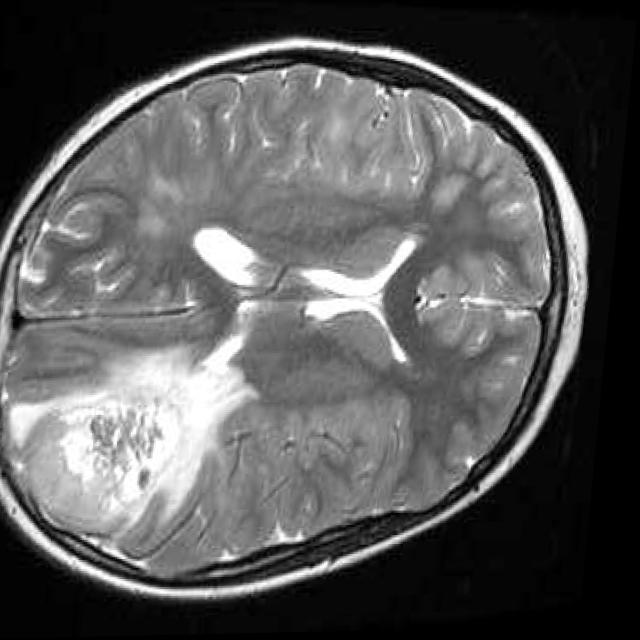Tumor: (26, 392, 190, 546)
